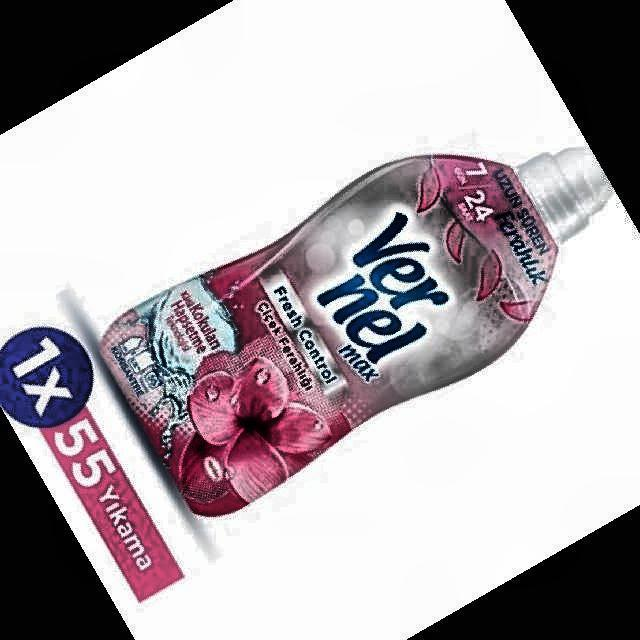plastic: (100, 148, 610, 516)
